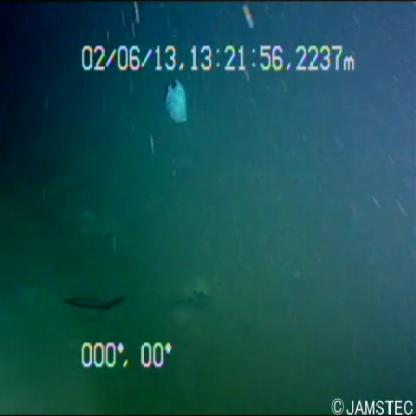Rác: (152, 68, 204, 135)
